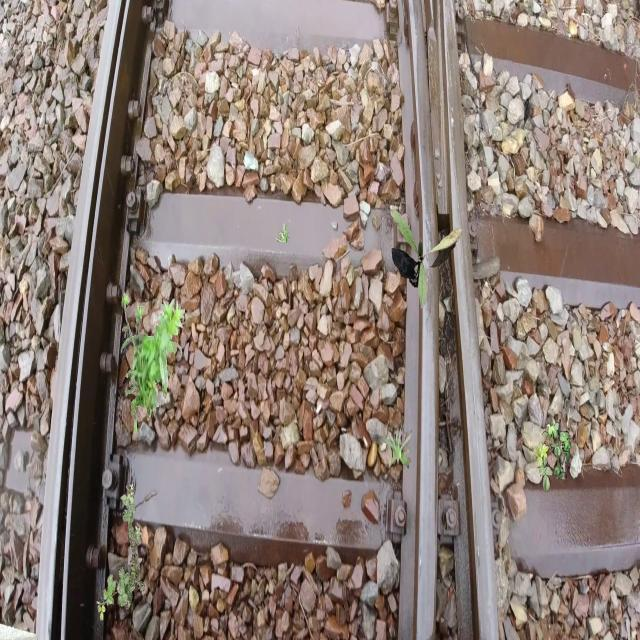Plant: (121, 291, 186, 434), (391, 209, 462, 308), (96, 483, 144, 621), (534, 419, 572, 492), (380, 424, 412, 470), (276, 222, 290, 242)
